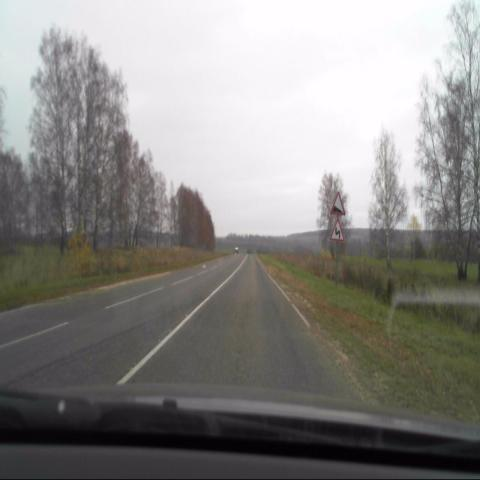1_12_2: (330, 219, 344, 241)
1_13: (331, 192, 345, 216)
